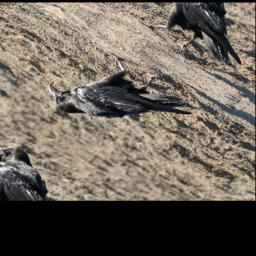Crow: (36, 37, 208, 161)
